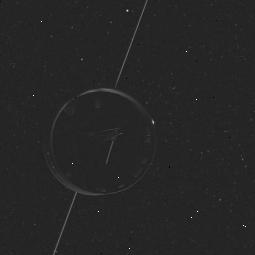double_start: (37, 86, 169, 208)
